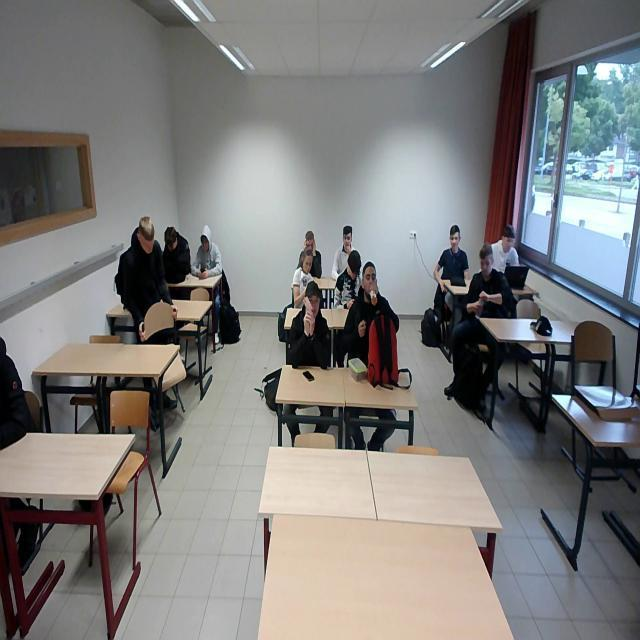Looking away: (129, 213, 161, 264), (501, 220, 521, 254), (301, 247, 315, 278)
Looking forward: (301, 281, 326, 330), (343, 223, 361, 256), (447, 220, 464, 253), (479, 247, 496, 279)
Phone use: (335, 250, 370, 310), (191, 226, 223, 276), (160, 223, 190, 276)
